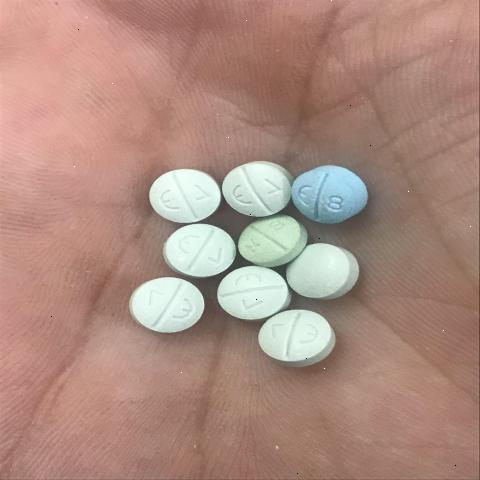Pill: (86, 278, 211, 343), (255, 307, 344, 377), (285, 238, 372, 307), (137, 154, 223, 223), (212, 259, 288, 322), (158, 220, 235, 278), (220, 154, 291, 216)
